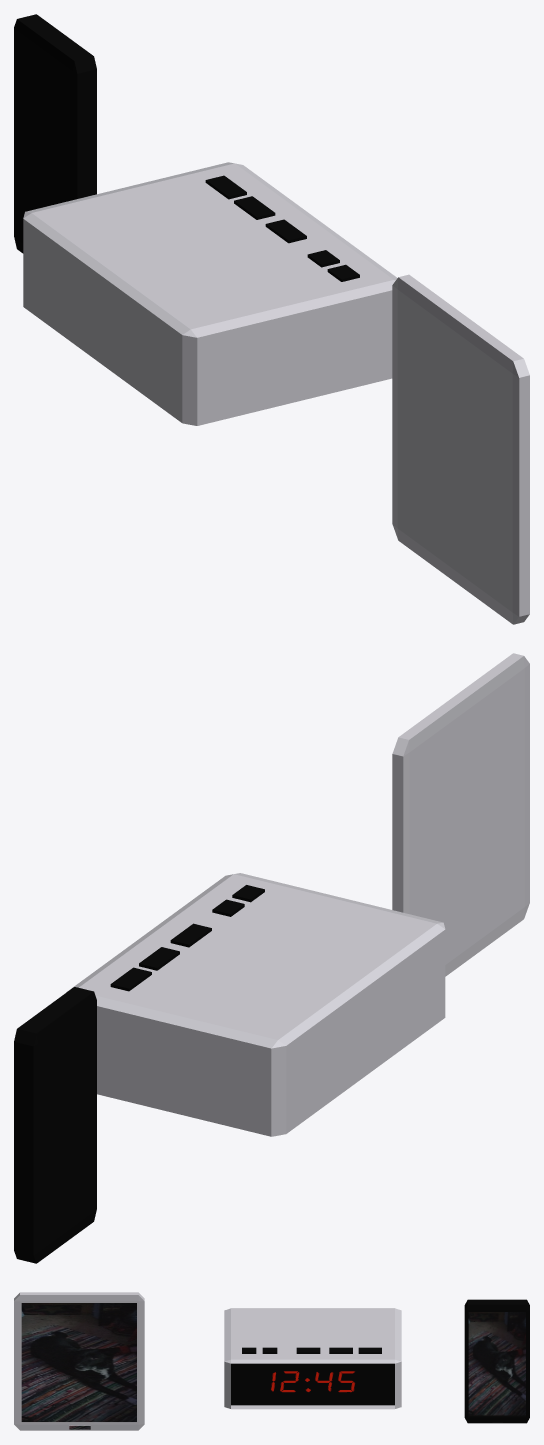
The model's file is Digital Devices.fbx.
3 views of the same model, one above another, from view 1: azimuth 30°, elevation 25°; view 2: azimuth 150°, elevation 25°; view 3: azimuth 270°, elevation 25° (orthographic). The views are drawn at different scales.
Parts seen in each view (by area): view 1: Cube.005, Cube.007, Cube.006; view 2: Cube.005, Cube.007, Cube.006; view 3: Cube.007, Cube.005, Cube.006.
Boxes of the visible parts, x1,y1,x2,y2 form: Cube.005: [23, 162, 397, 425]; Cube.007: [392, 274, 529, 624]; Cube.006: [14, 14, 96, 253]; Cube.005: [66, 873, 445, 1136]; Cube.007: [392, 653, 529, 976]; Cube.006: [14, 987, 96, 1263]; Cube.007: [14, 1292, 144, 1430]; Cube.005: [224, 1308, 401, 1409]; Cube.006: [464, 1299, 529, 1423].
Size of the model in its own units: 200 by 229 by 789.
5 materials, 3 textured.
